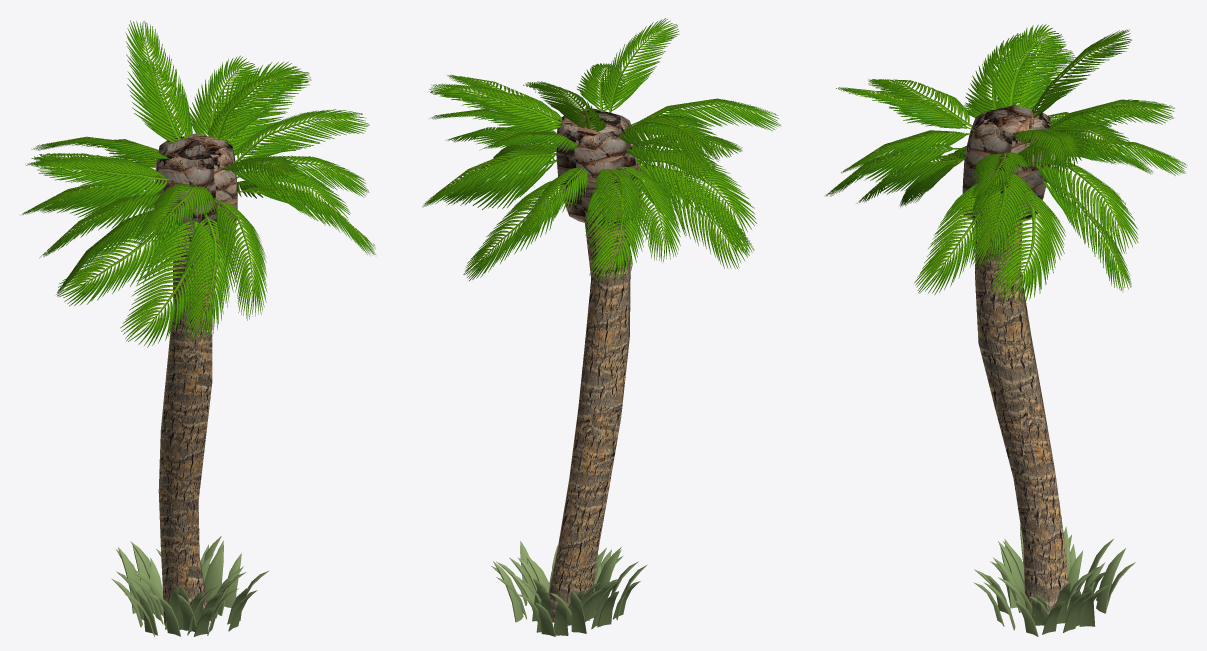
File: Palm Tree 3.fbx
3 renders of one model, left to right at view 1: azimuth 30°, elevation 25°; view 2: azimuth 150°, elevation 25°; view 3: azimuth 270°, elevation 25°, orthographic.
Visible parts, largest first — view 1: Palm_Tall; view 2: Palm_Tall; view 3: Palm_Tall.
Boxes of the visible parts, left/top/right/bottom form: Palm_Tall: left=22, top=20, right=375, bottom=636; Palm_Tall: left=422, top=18, right=780, bottom=636; Palm_Tall: left=825, top=24, right=1187, bottom=636.
Size of the model in its own units: 918 by 1545 by 903.
Materials: 4 (3 with a texture image).
